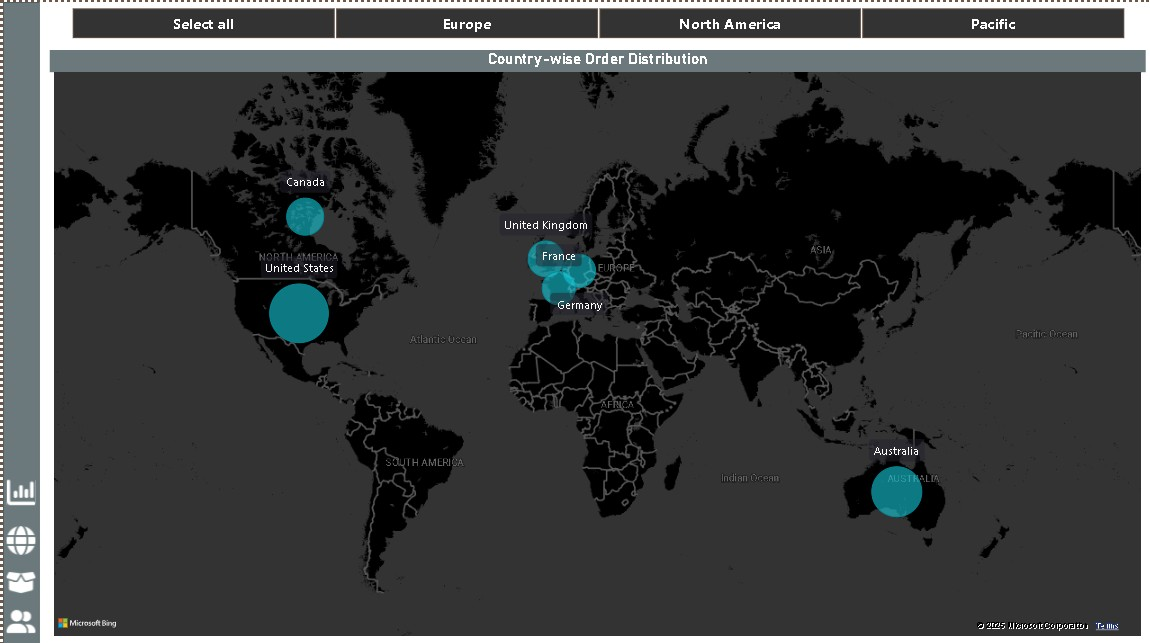

Layout of this report page (visuals, bound fields, positions):
{"tool":"powerbi","page":{"name":"Map","canvas":[1280,720],"ordinal":1},"visuals":[{"type":"map","title":"Country-wise Order Distribution","fields":{"Category":["Territory Lookup.Country"],"Size":["_Measure Table.Total Orders"]},"box":[51,54,1218,656],"z":0},{"type":"slicer","fields":{"Values":["Territory Lookup.Continent"]},"box":[51,0,1218,47],"z":1000},{"type":"shape","box":[0,0,40.9,720],"z":2000},{"type":"group","id":"g1","title":"Page Navigation Icon","box":[0,525.5,40.9,182.7],"z":3000},{"type":"actionButton","box":[0,525.5,40.9,40],"z":21000,"group":"g1"},{"type":"actionButton","box":[0,578.2,40.9,40],"z":22000,"group":"g1"},{"type":"actionButton","box":[0,625.5,40.9,40],"z":23000,"group":"g1"},{"type":"actionButton","box":[0,668.2,40.9,40],"z":24000,"group":"g1"}]}

Visuals, with their boxes in screenshot pixels (x1, y1, x2, y2), scaled from the page's 1280x720 canvas onto the 1150x643 screenshot:
"Country-wise Order Distribution" map: left=46, top=48, right=1140, bottom=634
slicer - Territory Lookup.Continent: left=46, top=0, right=1140, bottom=42
shape: left=0, top=0, right=37, bottom=642
"Page Navigation Icon" group: left=0, top=469, right=37, bottom=632
actionButton: left=0, top=469, right=37, bottom=505
actionButton: left=0, top=516, right=37, bottom=552
actionButton: left=0, top=559, right=37, bottom=594
actionButton: left=0, top=597, right=37, bottom=632
